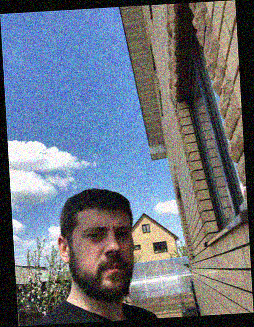without_mask: (81, 219, 136, 300)
